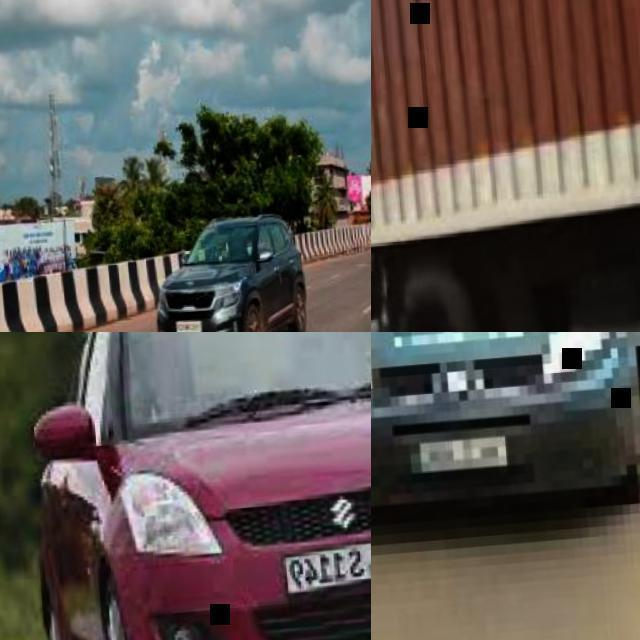car: (370, 322, 639, 515), (155, 216, 311, 329)
